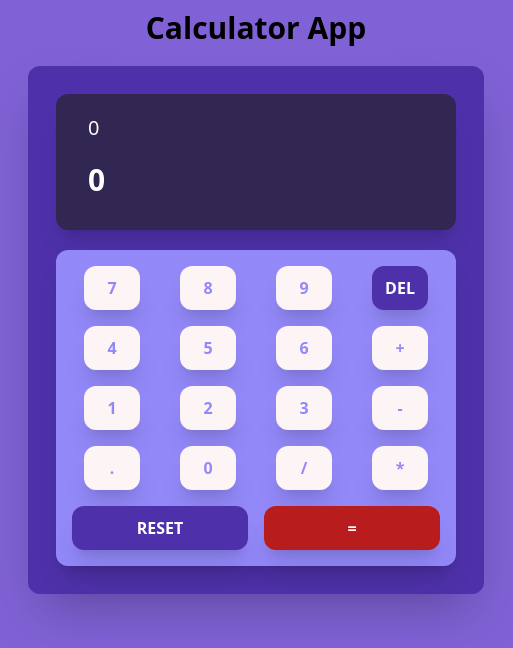
Scenario: App › testing delete function
The width and height of the screenshot is (513, 648).
Expected: the button "DEL" is shown, [372,266,428,310]
Click the button "8": click(208, 288) [180,266,236,310]
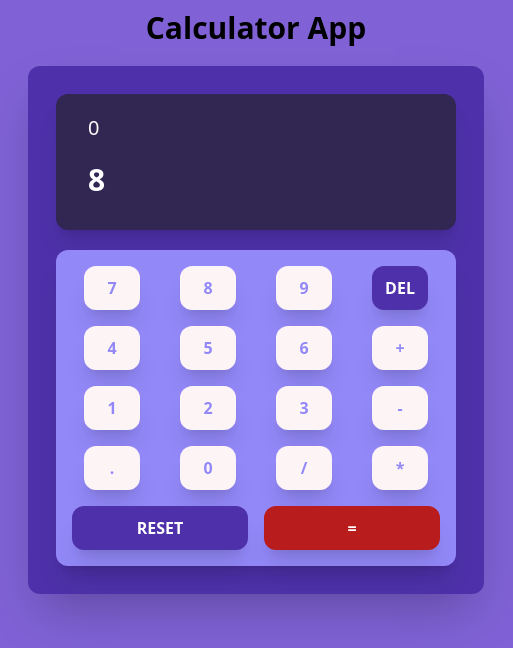
Click the button "DEL": click(400, 288) [372,266,428,310]
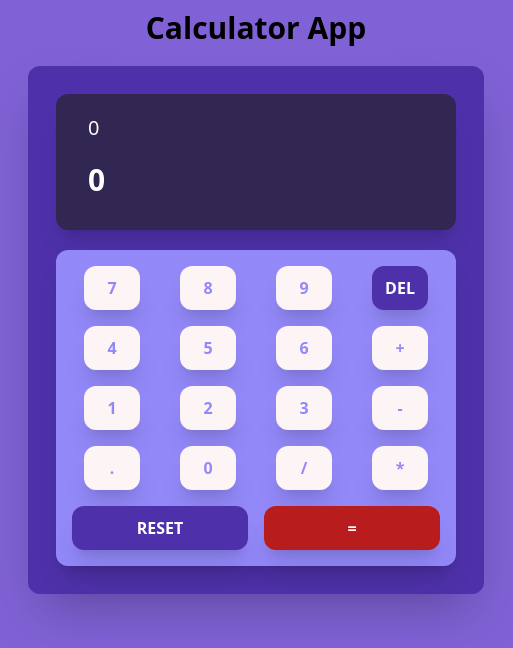
Expected: the text with test id "display" reads "0", [88,159,107,200]
